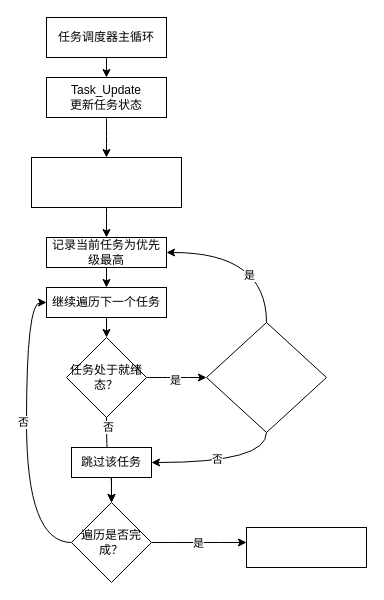
The diagram is 384 pixels wide and 600 high, and some of its shapes have lost their labels. The shapes that lost their labels are listed below. From the top down, each one's centre as x and y in pixels, then its label:
At point 106,182: "任务优先级选择 Scheduler_SlelctTask".
At point 266,377: "当前任务优先级 > 记录任务优先级？".
At point 306,547: "返回该任务块数组的下标".
